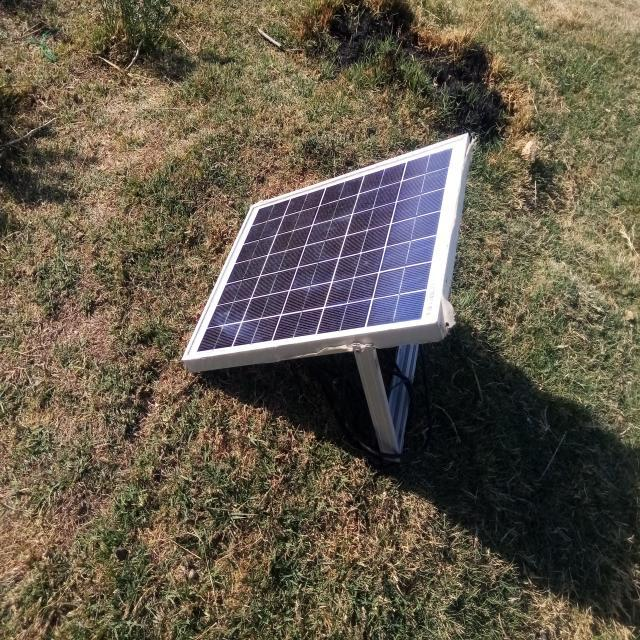no faulty: (182, 134, 468, 359)
